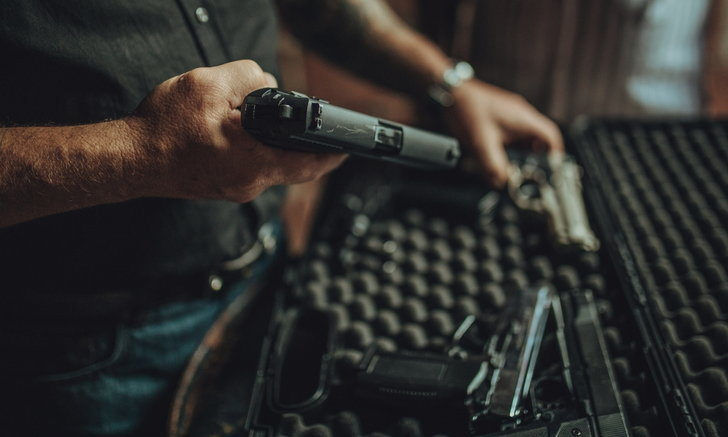gun: (362, 274, 555, 424), (236, 84, 462, 179), (547, 286, 636, 437), (499, 141, 601, 252)
